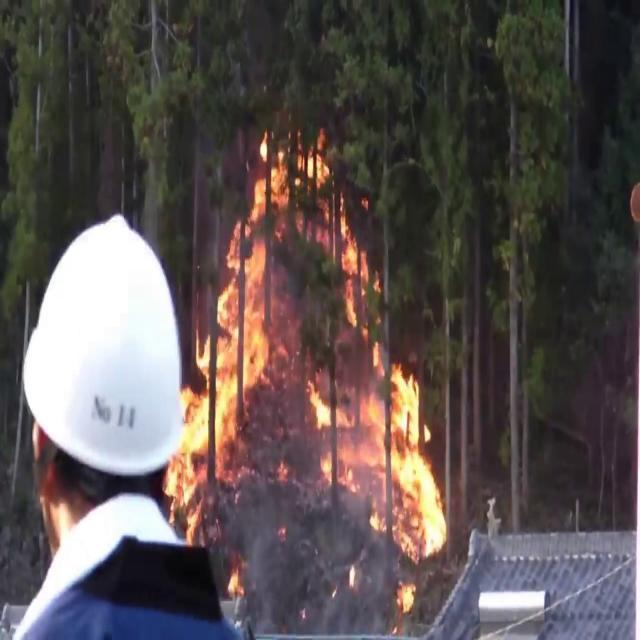Fire: (165, 121, 448, 559)
